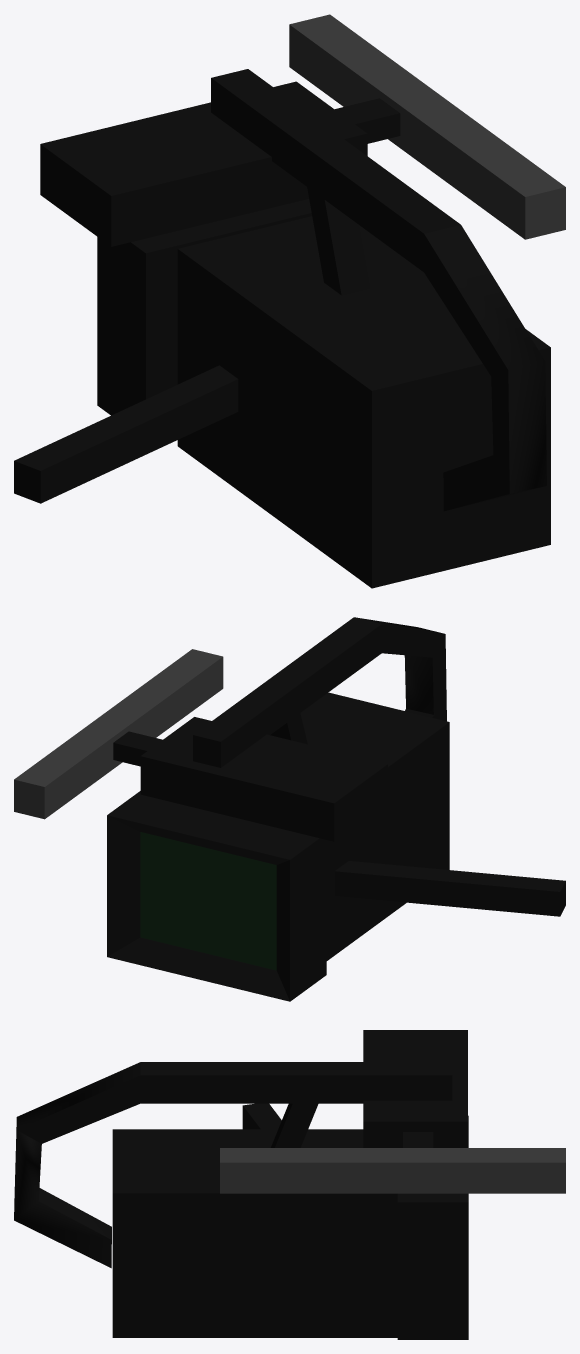
File: Camera.obj
The picture shows the model from 3 angles, top to bottom: view 1: azimuth 30°, elevation 25°; view 2: azimuth 150°, elevation 25°; view 3: azimuth 270°, elevation 25°; orthographic projection. The views are drawn at different scales.
Parts seen in each view (by area): view 1: Main, Mic; view 2: Main, Lens, Mic; view 3: Main, Mic.
Part boxes in pixels (<box>): Main: <box>14,69,550,588</box>; Mic: <box>289,14,565,239</box>; Main: <box>107,617,565,1001</box>; Lens: <box>140,832,276,970</box>; Mic: <box>14,649,223,819</box>; Main: <box>14,1030,468,1339</box>; Mic: <box>220,1148,565,1193</box>.
Size of the model in its own units: 1.42 by 0.8459 by 1.78.
